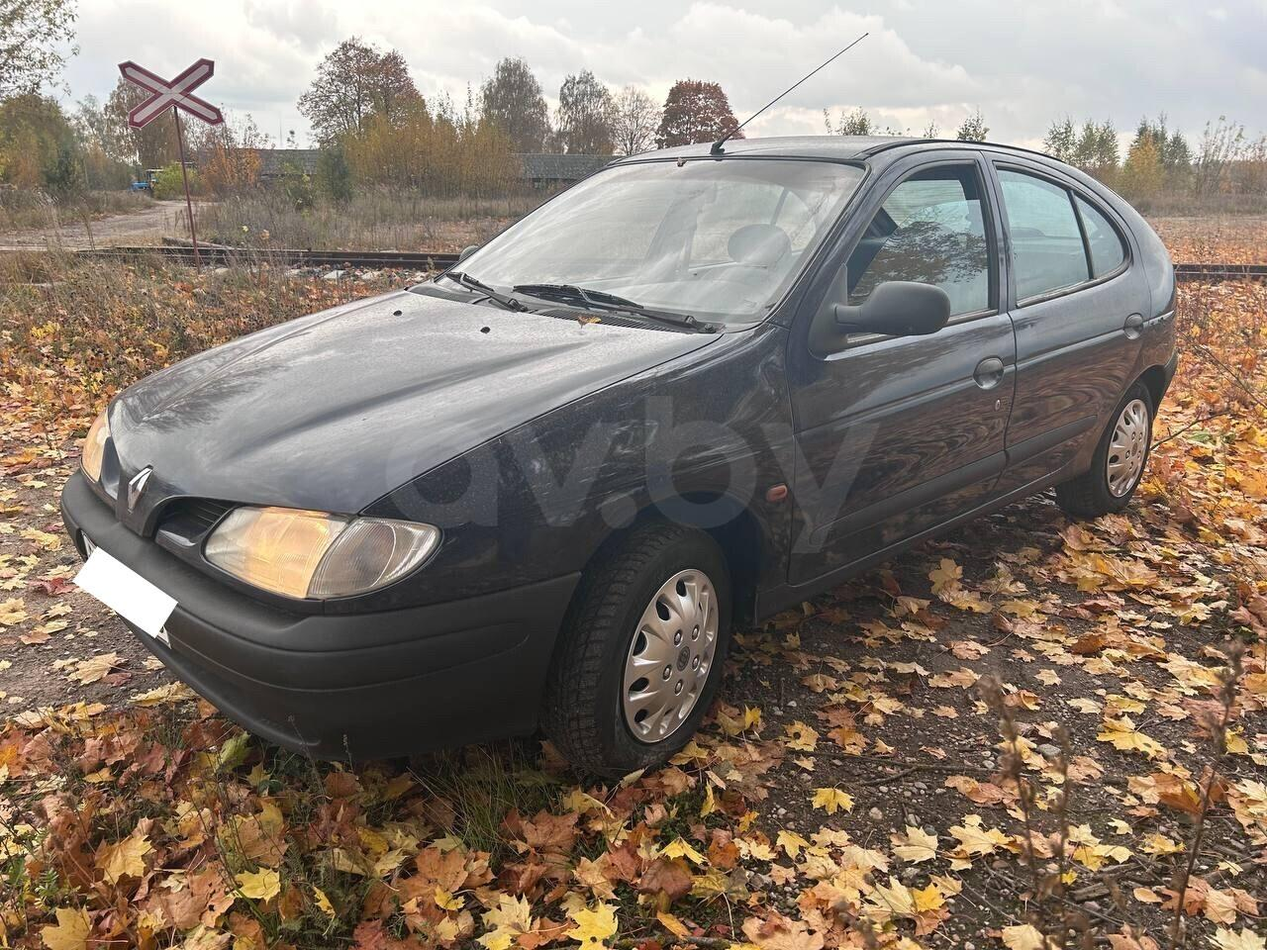Megane_1995-1999: (49, 126, 1187, 783)
